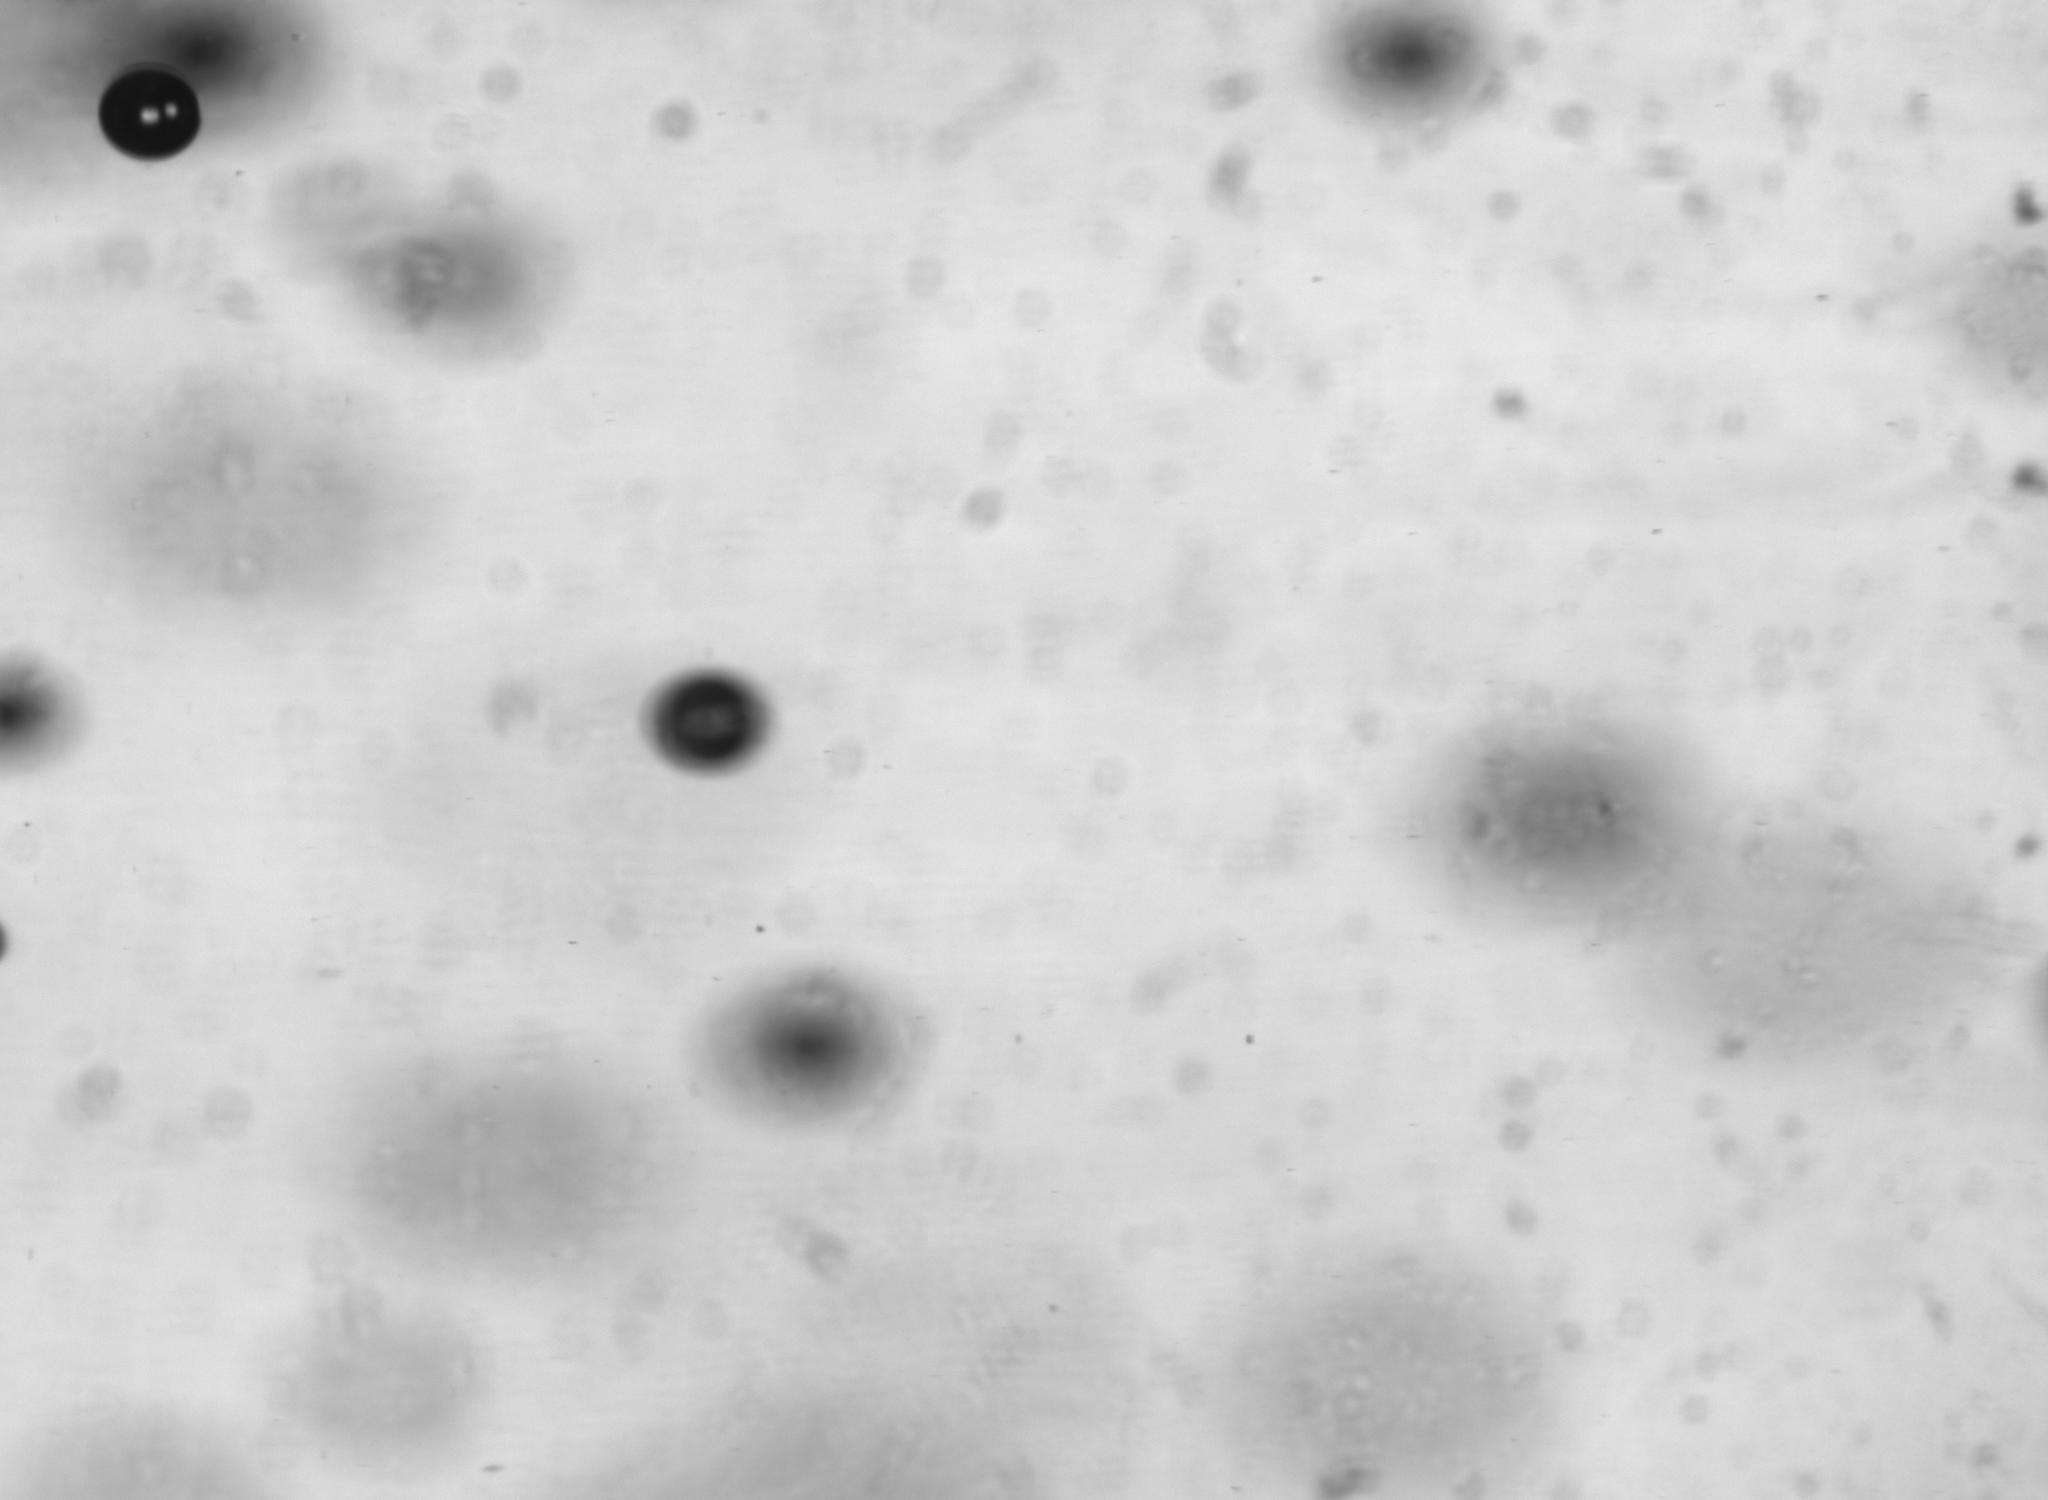bubble: (652, 671, 763, 768), (99, 65, 200, 157)
